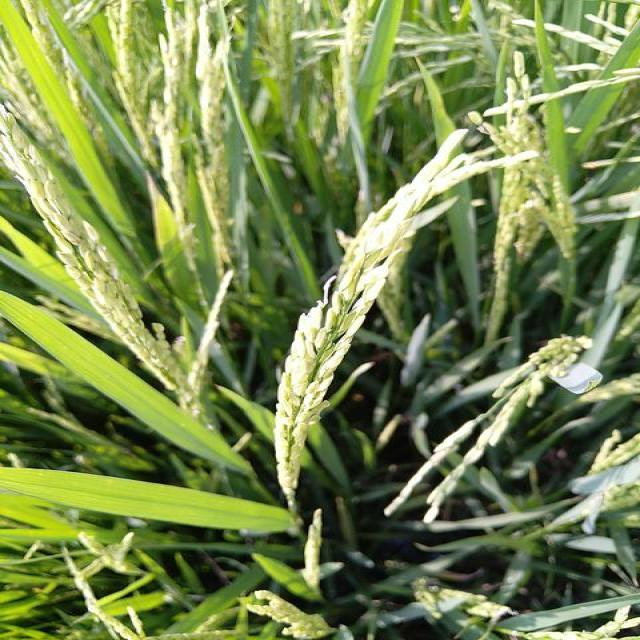Panicle Blight: (52, 215, 83, 249)
